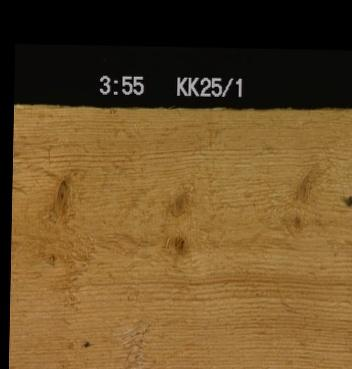small_knot: (289, 209, 308, 235)
sound_knot: (160, 175, 198, 220), (170, 229, 188, 257)
